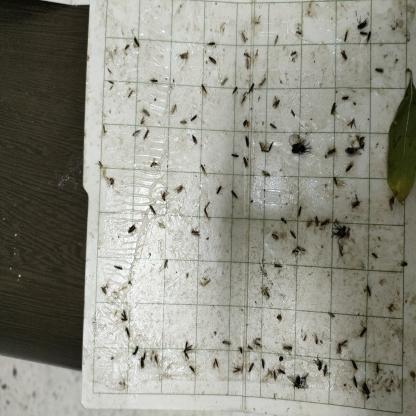prays_oleae: (288, 364, 309, 394), (176, 48, 194, 68), (201, 198, 213, 222), (227, 82, 238, 105), (206, 33, 219, 52), (158, 252, 170, 272), (360, 378, 372, 397), (350, 194, 362, 212), (282, 340, 295, 356), (126, 221, 138, 238), (319, 214, 331, 231), (218, 72, 230, 89), (376, 358, 386, 378), (160, 186, 171, 204), (208, 52, 219, 70), (357, 323, 368, 341), (214, 183, 224, 202), (132, 34, 142, 53), (374, 60, 385, 77), (277, 364, 288, 381), (122, 41, 133, 58), (182, 340, 192, 358), (231, 186, 240, 206), (336, 340, 346, 358), (210, 358, 221, 374), (124, 325, 133, 344), (150, 158, 162, 172), (231, 148, 240, 166), (262, 165, 272, 181), (274, 96, 282, 116), (132, 126, 143, 140), (142, 106, 153, 120), (247, 80, 256, 97), (199, 163, 208, 179), (242, 153, 250, 171), (329, 102, 338, 118), (366, 282, 374, 300), (221, 337, 232, 350), (315, 355, 322, 375), (148, 203, 158, 217), (191, 226, 201, 240), (326, 144, 336, 158), (190, 131, 198, 148), (342, 28, 351, 43), (340, 92, 351, 104), (344, 161, 354, 174), (242, 132, 251, 146), (272, 231, 280, 246), (178, 117, 188, 129), (126, 88, 136, 100), (120, 310, 129, 323), (233, 363, 242, 376), (189, 112, 198, 125), (150, 74, 159, 87), (248, 361, 256, 375), (201, 83, 209, 97), (144, 128, 151, 144), (372, 248, 379, 264), (351, 377, 359, 391), (170, 103, 178, 117), (174, 186, 185, 196), (188, 364, 197, 376), (140, 356, 146, 374), (289, 226, 296, 240), (131, 346, 141, 355), (352, 356, 358, 371), (240, 29, 246, 43), (328, 312, 336, 322), (342, 50, 348, 63), (349, 116, 355, 128), (324, 364, 328, 380), (139, 116, 146, 123)
